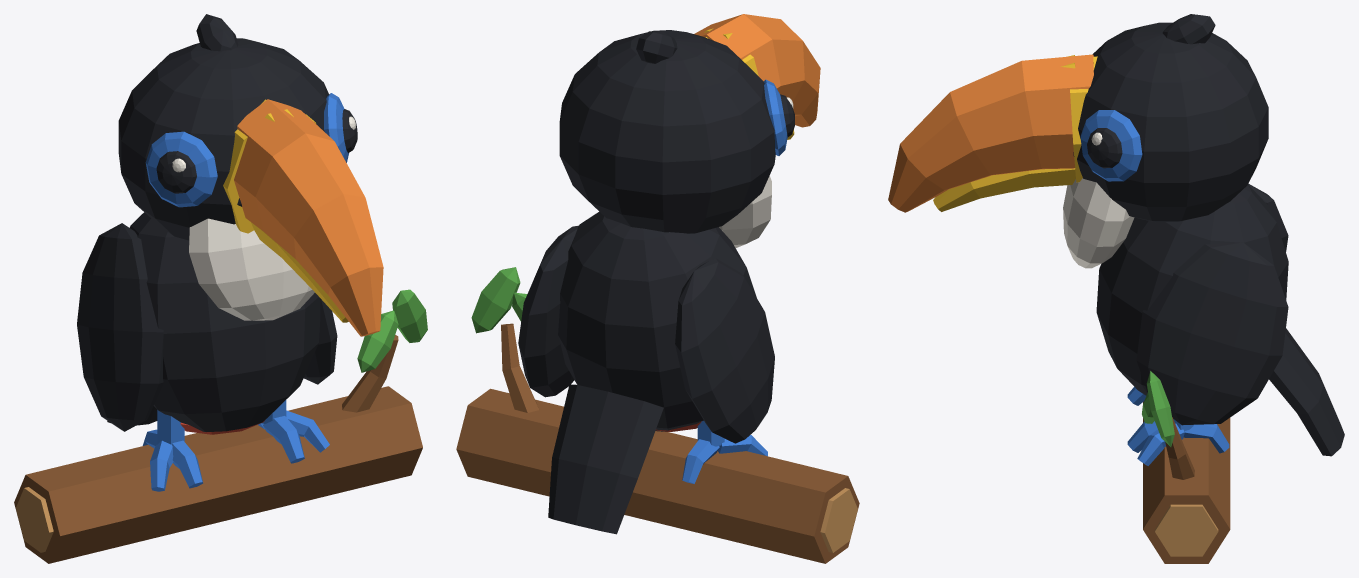
The model's file is chunky-toucan-pet.glb.
3 views of the same model, side by side, from view 1: azimuth 30°, elevation 25°; view 2: azimuth 150°, elevation 25°; view 3: azimuth 270°, elevation 25° (orthographic). The views are drawn at different scales.
Parts seen in each view (by area): view 1: Toucan_Pet; view 2: Toucan_Pet; view 3: Toucan_Pet.
Part boxes in pixels (box(x1,y1,x2,y2)): Toucan_Pet: box(14, 14, 427, 563); Toucan_Pet: box(456, 14, 859, 563); Toucan_Pet: box(888, 14, 1344, 563).
Size of the model in its own units: 2.13 by 2.6 by 2.31.
